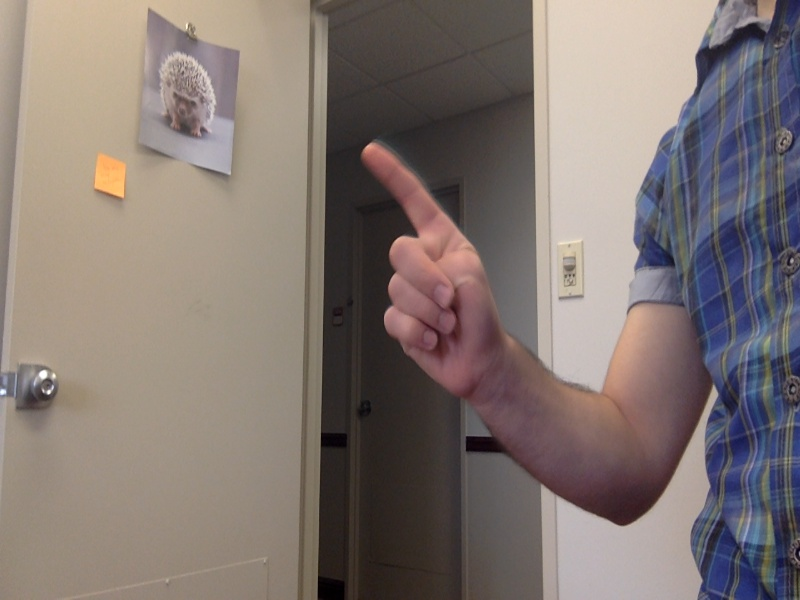1-hand: (359, 138, 502, 418)
